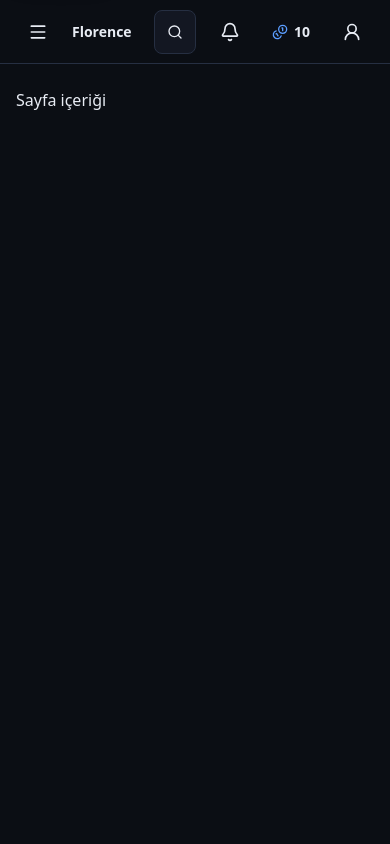
Scenario: AppShell › navigasyon gruplarını ve öğelerini render eder
The image size is (390, 844).
Click the button named "Menüyü aç" at (38, 32), box [16,10,60,54]
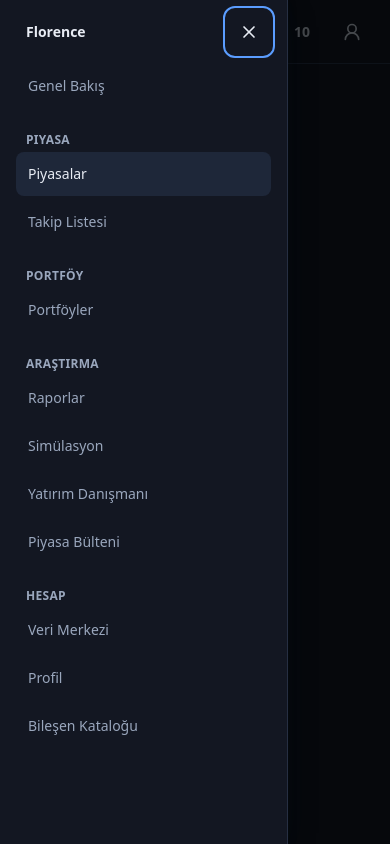
Now the heading "Piyasa" is shown, box [26,131,70,148]
Now the heading "Portföy" is shown, box [26,267,84,284]
Now the heading "Araştırma" is shown, box [26,355,99,372]
